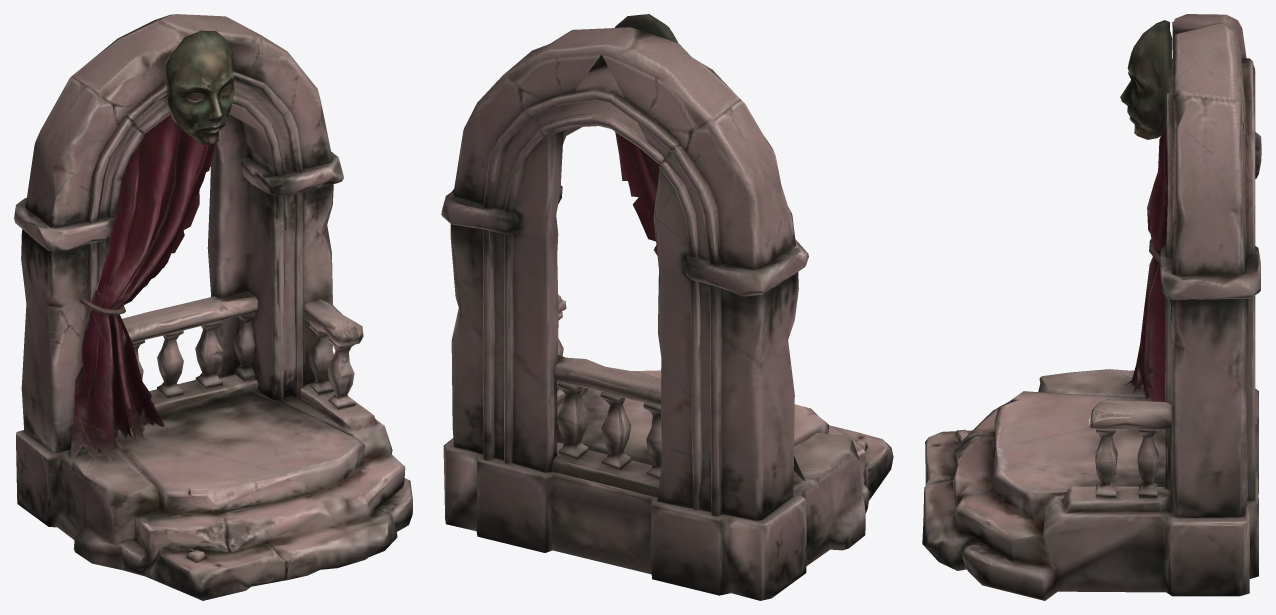
The model's file is lust-niche-2ba507875478.glb.
The picture shows the model from 3 angles, left to right: view 1: azimuth 30°, elevation 25°; view 2: azimuth 150°, elevation 25°; view 3: azimuth 270°, elevation 25°; orthographic projection. The views are drawn at different scales.
Bounding box in the file's own units: 0.6636 × 0.9536 × 0.5898.
1 material, 1 textured.
